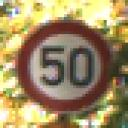speed_limit_50: (18, 18, 112, 111)
